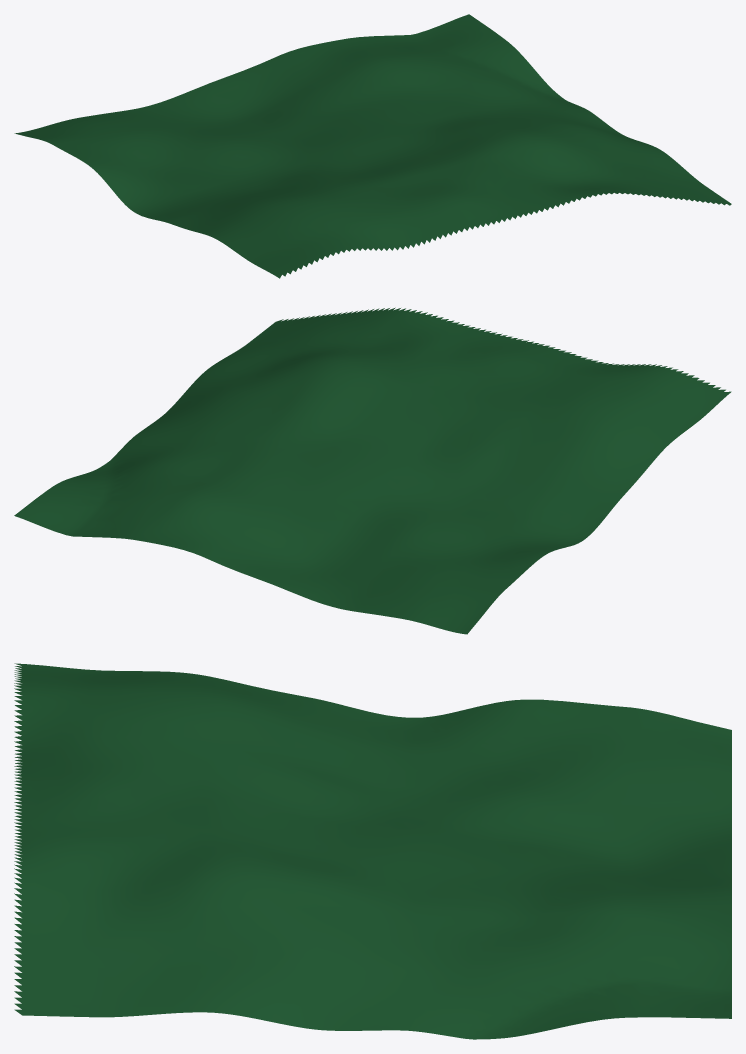
File: payo_land_xm3_ym2_lod1.glb
3 renders of one model, top to bottom at view 1: azimuth 30°, elevation 25°; view 2: azimuth 150°, elevation 25°; view 3: azimuth 270°, elevation 25°, orthographic. The views are drawn at different scales.
Parts seen in each view (by area): view 1: payo_land_xm3_ym2; view 2: payo_land_xm3_ym2; view 3: payo_land_xm3_ym2.
Part boxes in pixels (x1=…): payo_land_xm3_ym2: x1=14, y1=14, x2=731, y2=278; payo_land_xm3_ym2: x1=14, y1=307, x2=731, y2=634; payo_land_xm3_ym2: x1=14, y1=663, x2=731, y2=1039.
Size of the model in its own units: 255 by 36.06 by 258.
